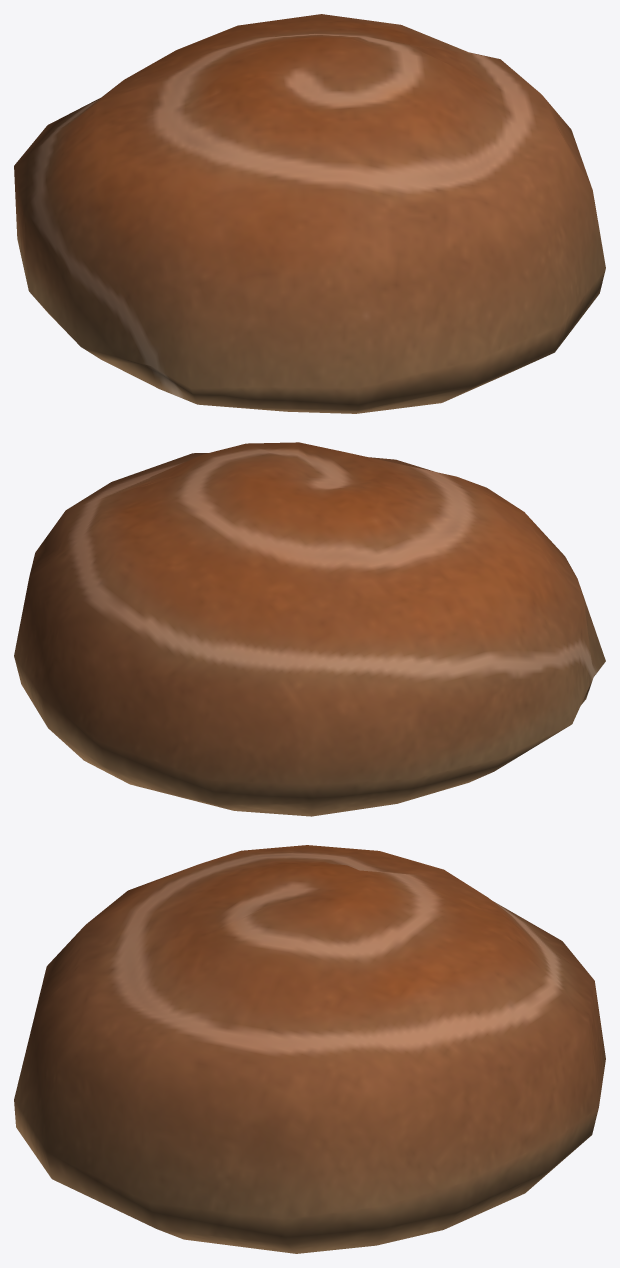
The model's file is roti 4.fbx.
3 renders of one model, top to bottom at view 1: azimuth 30°, elevation 25°; view 2: azimuth 150°, elevation 25°; view 3: azimuth 270°, elevation 25°, orthographic. The views are drawn at different scales.
Visible parts, largest first — view 1: roti 4; view 2: roti 4; view 3: roti 4.
Boxes of the visible parts, box(x1,y1,x2,y2) form: roti 4: box(14, 14, 605, 413); roti 4: box(14, 442, 605, 816); roti 4: box(14, 845, 605, 1253).
Size of the model in its own units: 20.86 by 10.52 by 20.38.
1 material, 1 textured.
